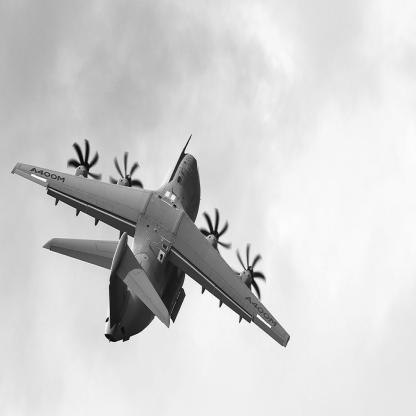A400M: (12, 135, 291, 349)
